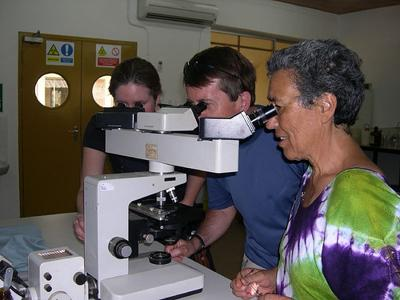person: (230, 38, 400, 299)
